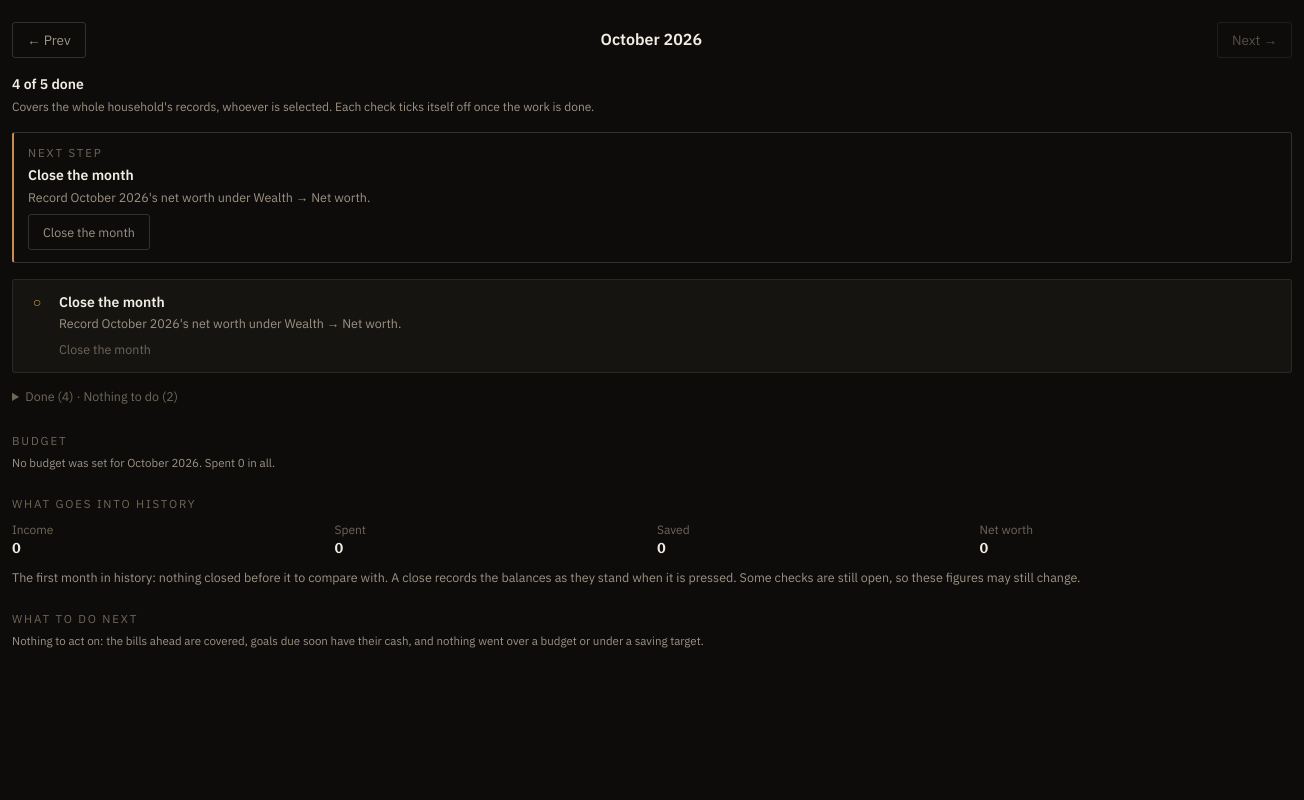
Test: Review › steps back a month, and not forward past the month just ended
The width and height of the screenshot is (1304, 800).
Expected: the button "Next →" is disabled, [1217,22,1292,58]
Click the button "← Prev". click: [49, 40]
box: [12,22,86,58]
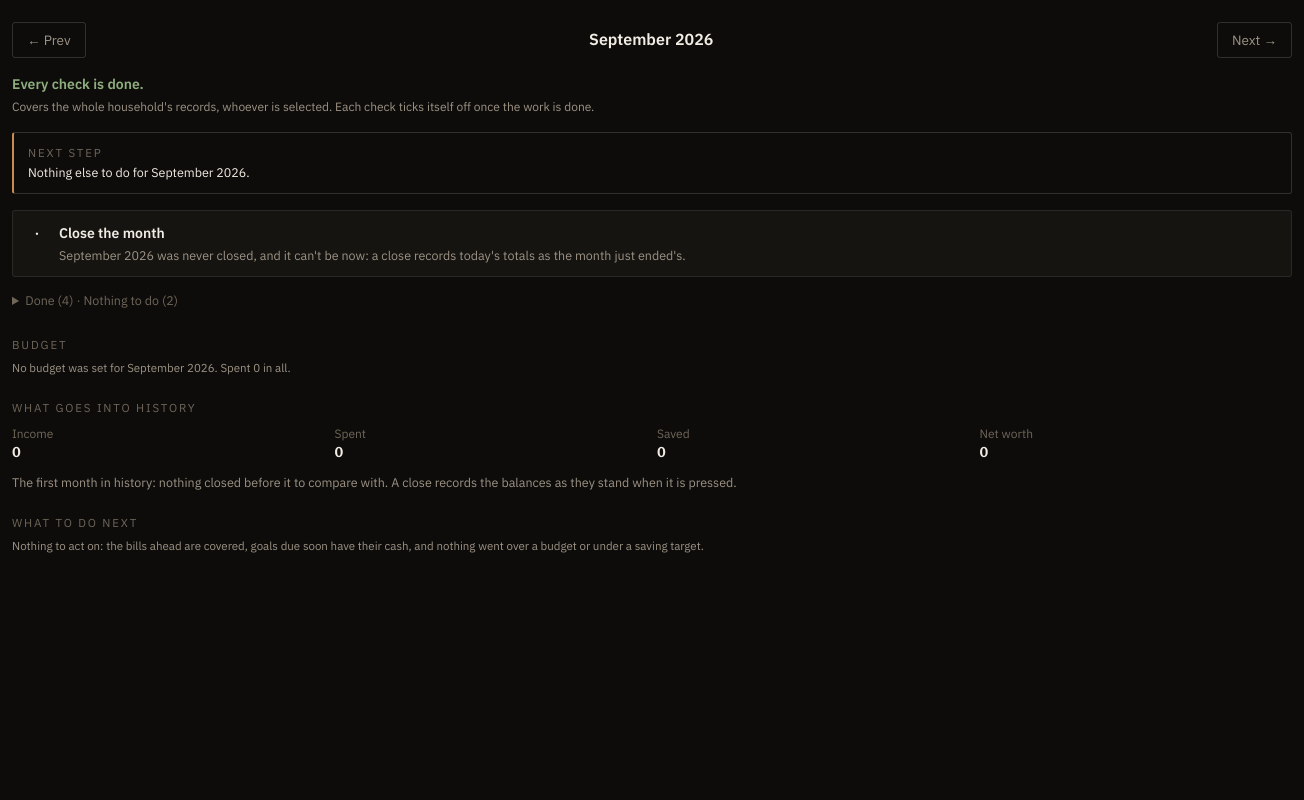
Expected: the heading "September 2026" is shown, [589,28,713,52]
Expected: the button "Next →" is enabled, [1217,22,1292,58]
